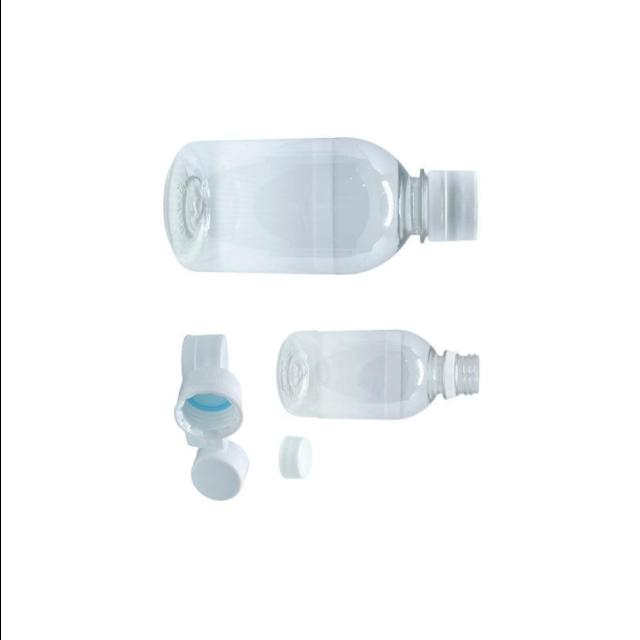bottom: (160, 134, 222, 274), (266, 326, 317, 420)
cap: (407, 166, 476, 252), (175, 370, 248, 439), (188, 435, 258, 499), (272, 437, 316, 487), (178, 334, 232, 373)
no_cap: (438, 350, 489, 408)
